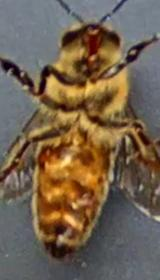varroa_mite: (31, 136, 58, 166)
